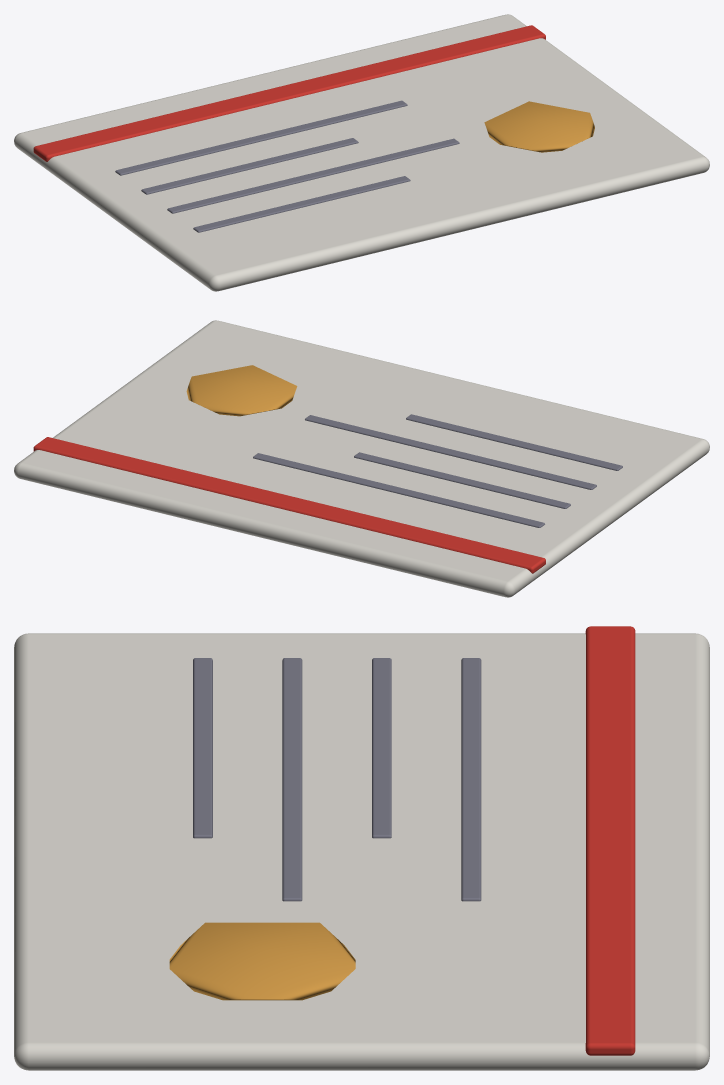
File: item_ic_lost_recipe.glb
The picture shows the model from 3 angles, top to bottom: view 1: azimuth 30°, elevation 25°; view 2: azimuth 150°, elevation 25°; view 3: azimuth 270°, elevation 25°; orthographic projection. The views are drawn at different scales.
Parts seen in each view (by area): view 1: item_ic_lost_recipe_main; view 2: item_ic_lost_recipe_main; view 3: item_ic_lost_recipe_main.
Boxes of the visible parts, <box> form: item_ic_lost_recipe_main: <box>14,14,709,291</box>; item_ic_lost_recipe_main: <box>14,320,709,597</box>; item_ic_lost_recipe_main: <box>14,626,709,1070</box>.
Size of the model in its own units: 0.2 by 0.0095 by 0.14.
